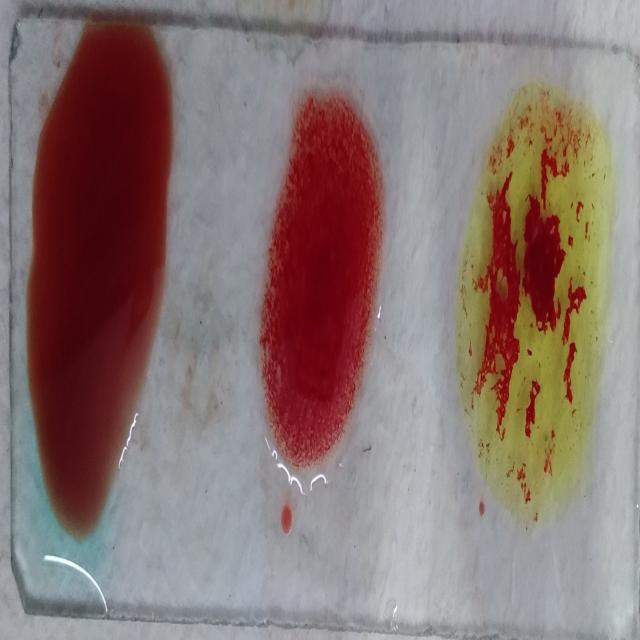B: (461, 85, 604, 525)
D: (258, 80, 386, 497)
